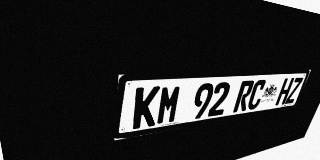2: (207, 82, 232, 117)
9: (190, 83, 215, 120)
C: (246, 79, 267, 110)
H: (275, 78, 294, 106)
K: (132, 86, 160, 129)
M: (156, 85, 183, 125)
R: (233, 80, 255, 113)
Z: (285, 77, 304, 104)
